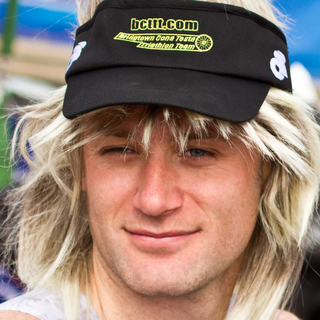eye: (168, 139, 219, 169), (93, 138, 146, 165)
